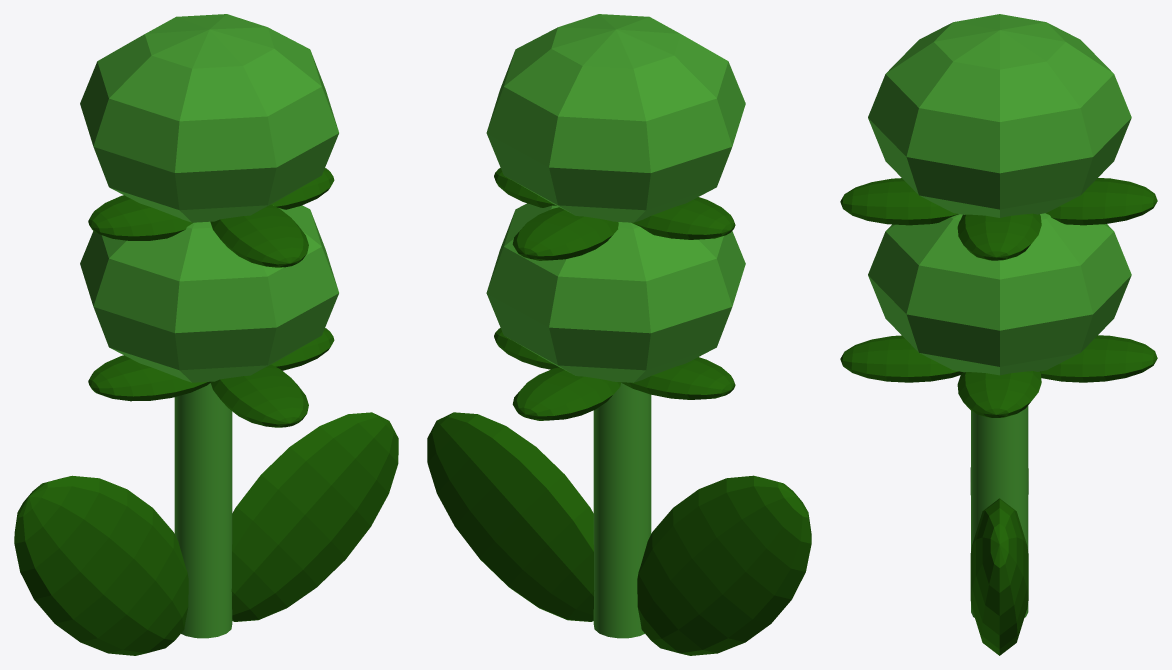
File: kush2.fbx
3 renders of one model, left to right at view 1: azimuth 30°, elevation 25°; view 2: azimuth 150°, elevation 25°; view 3: azimuth 270°, elevation 25°, orthographic.
Parts seen in each view (by area): view 1: Kush1, Kush, LeafBase2, LeafBase1, Stalk, Stalk_Leaf6, Stalk_Leaf4, Stalk_Leaf1, Stalk_Leaf8, Stalk_Leaf2, Stalk_Leaf5; view 2: Kush1, Kush, LeafBase2, LeafBase1, Stalk, Stalk_Leaf3, Stalk_Leaf7, Stalk_Leaf1, Stalk_Leaf8, Stalk_Leaf2, Stalk_Leaf5; view 3: Kush1, Kush, LeafBase1, Stalk, Stalk_Leaf4, Stalk_Leaf3, Stalk_Leaf6, Stalk_Leaf7, Stalk_Leaf5, Stalk_Leaf2.
Part boxes in pixels (box(x1,y1,x2,y2)): Kush1: box(80, 14, 338, 222); Kush: box(80, 205, 338, 382); LeafBase2: box(14, 475, 188, 655); LeafBase1: box(231, 412, 398, 621); Stalk: box(174, 383, 232, 638); Stalk_Leaf6: box(210, 204, 308, 267); Stalk_Leaf4: box(210, 364, 308, 427); Stalk_Leaf1: box(88, 355, 210, 401); Stalk_Leaf8: box(88, 195, 193, 240); Stalk_Leaf2: box(271, 328, 334, 370); Stalk_Leaf5: box(271, 168, 334, 209); Kush1: box(486, 14, 745, 222); Kush: box(486, 203, 745, 382); LeafBase2: box(637, 475, 811, 655); LeafBase1: box(427, 412, 594, 621); Stalk: box(593, 383, 651, 638); Stalk_Leaf3: box(512, 367, 620, 420); Stalk_Leaf7: box(512, 207, 618, 260); Stalk_Leaf1: box(621, 357, 735, 399); Stalk_Leaf8: box(631, 197, 735, 239); Stalk_Leaf2: box(494, 328, 558, 369); Stalk_Leaf5: box(494, 168, 556, 207); Kush1: box(868, 14, 1131, 217); Kush: box(868, 213, 1131, 375); LeafBase1: box(970, 498, 1028, 655); Stalk: box(971, 406, 1028, 617); Stalk_Leaf4: box(840, 335, 962, 382); Stalk_Leaf3: box(1040, 335, 1157, 382); Stalk_Leaf6: box(840, 178, 958, 225); Stalk_Leaf7: box(1046, 178, 1157, 225); Stalk_Leaf5: box(957, 213, 1041, 260); Stalk_Leaf2: box(957, 371, 1041, 417).
Size of the model in its own units: 4.11 by 6.22 by 2.99.
